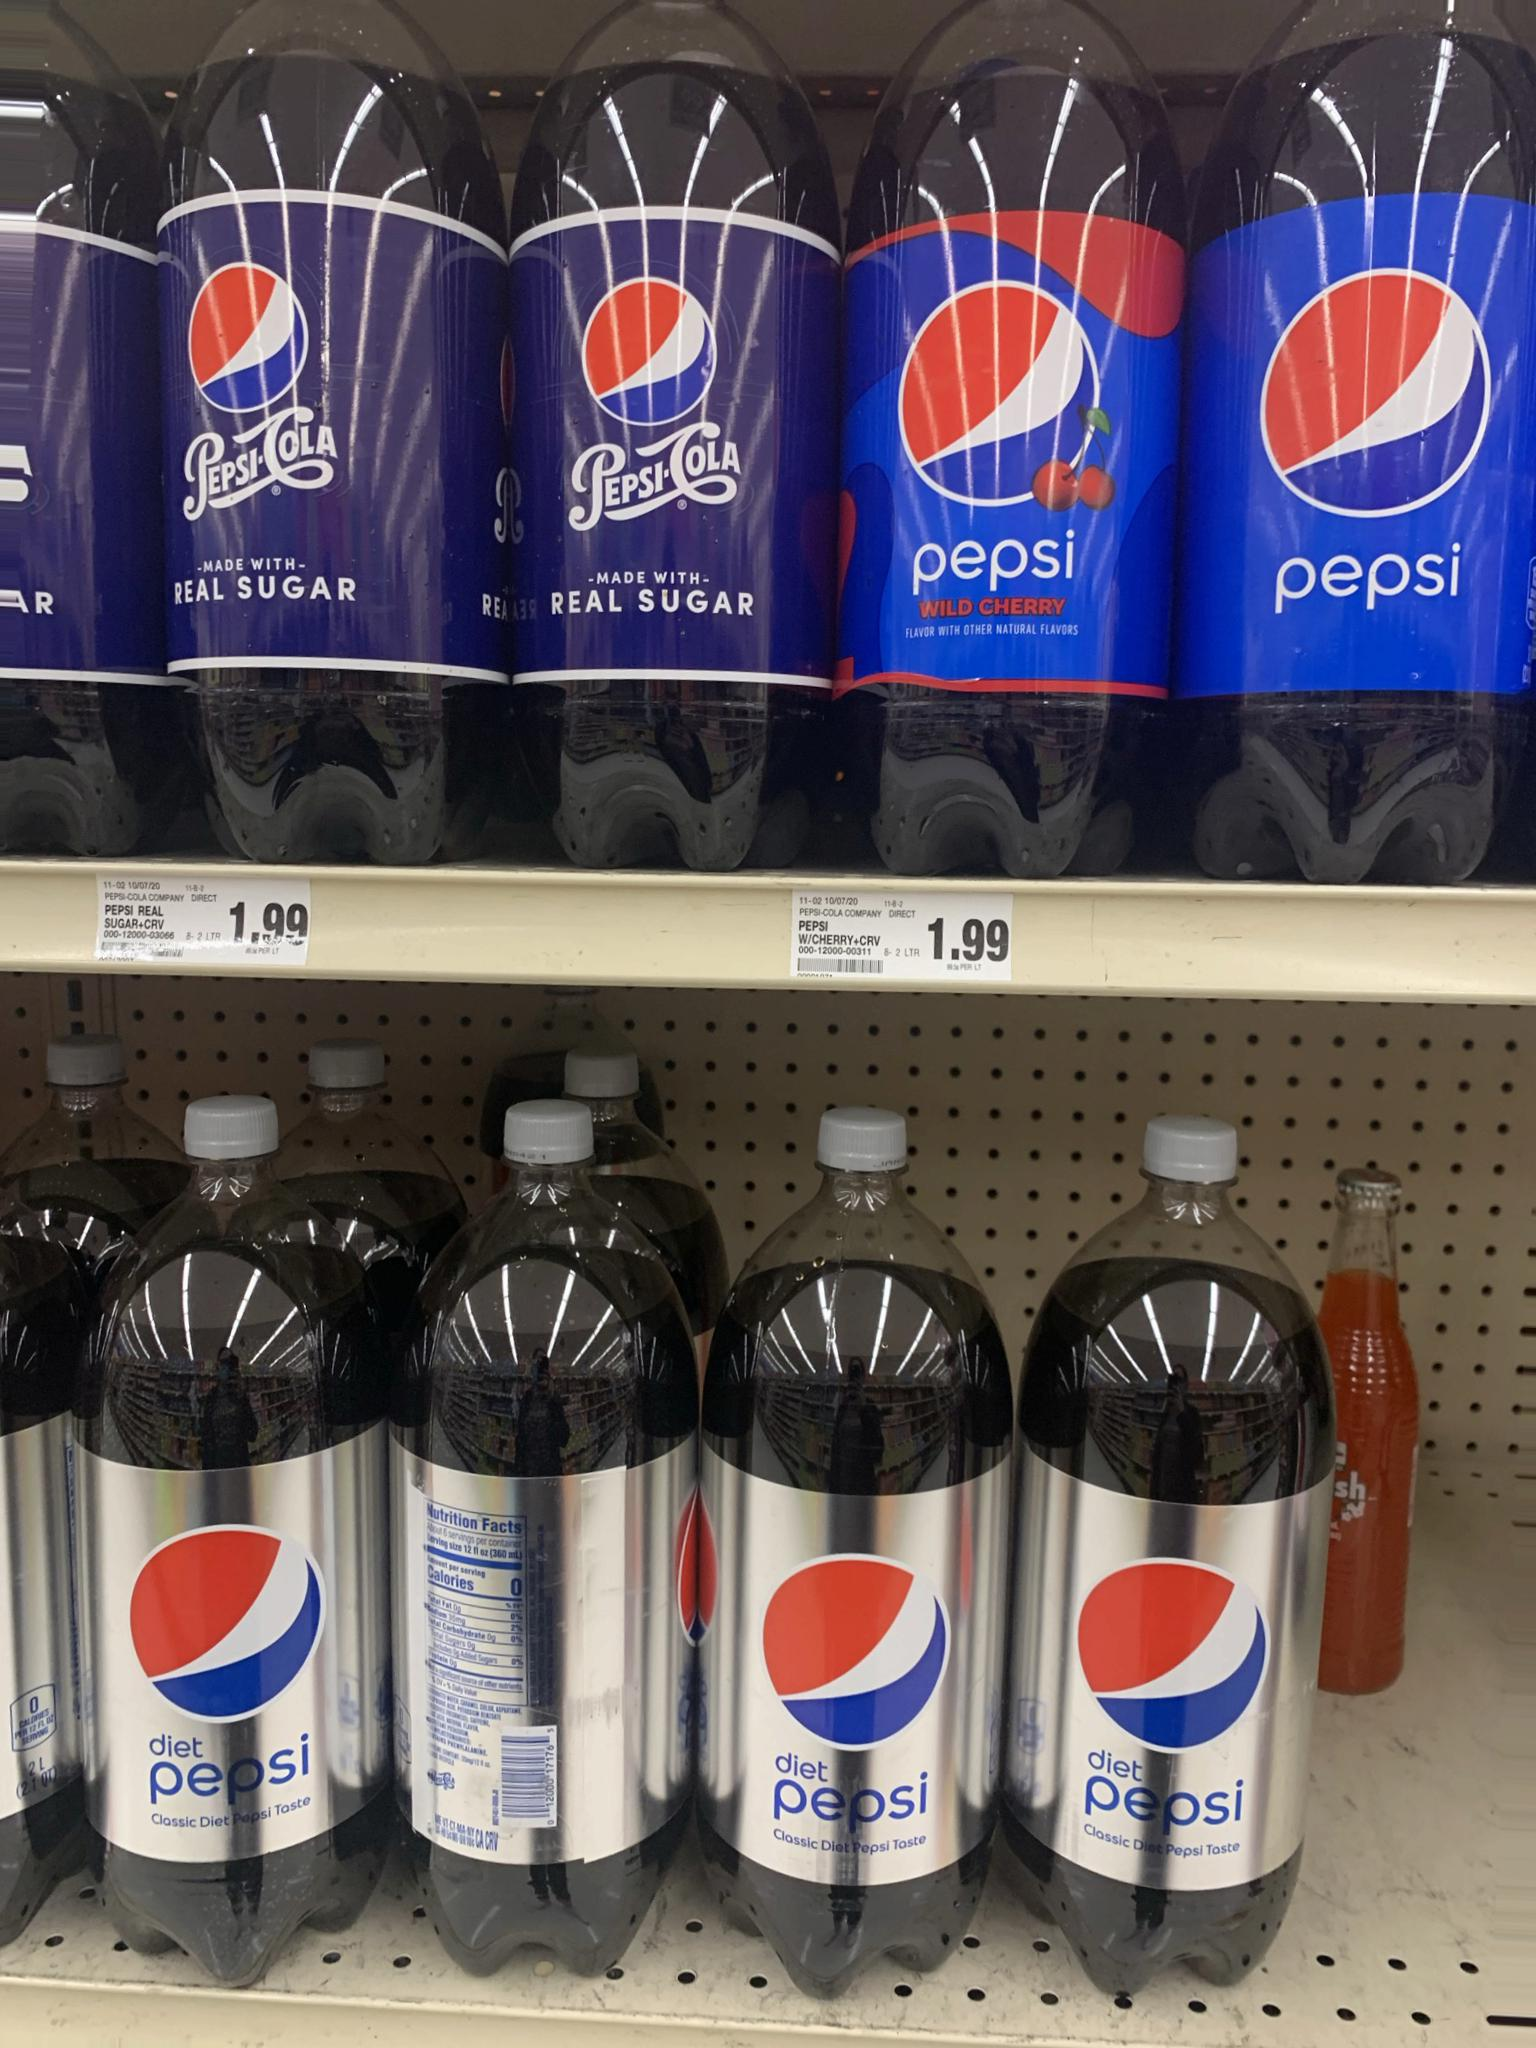soda: (1187, 34, 1536, 895), (860, 24, 1142, 884), (150, 27, 444, 847), (523, 15, 795, 864), (729, 1092, 987, 1969), (1068, 1127, 1317, 2006), (410, 1127, 666, 1971), (103, 1118, 355, 1967)
